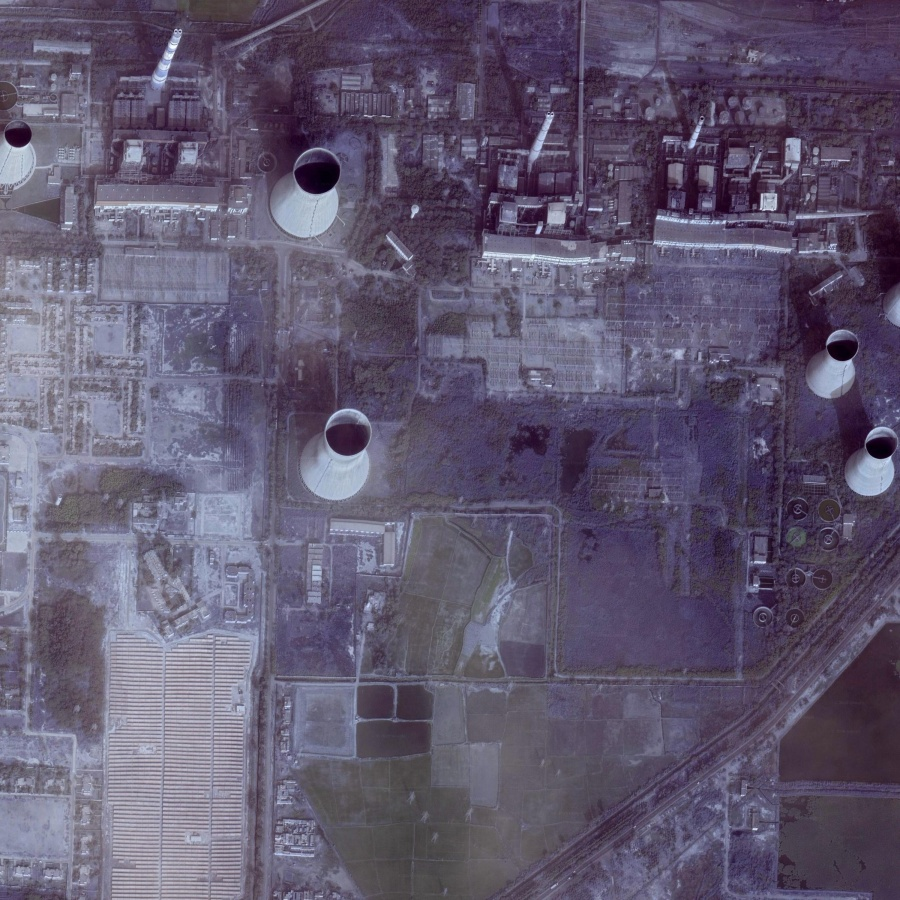PowerPlant: (280, 396, 524, 670)
